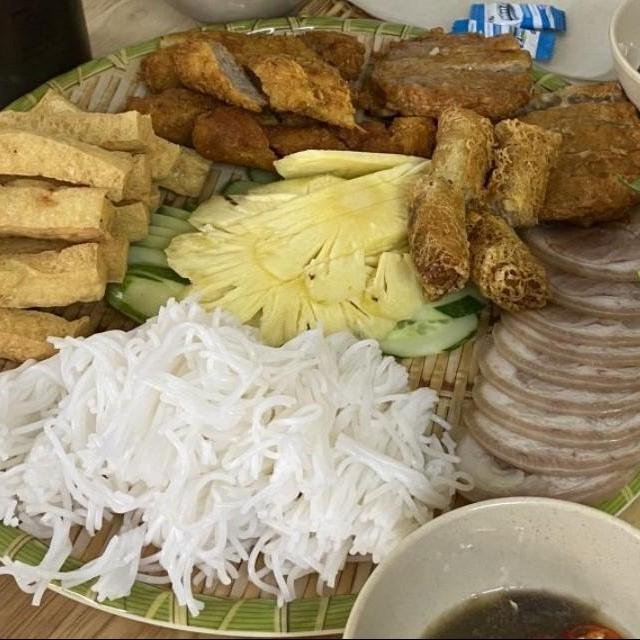bun: (0, 284, 476, 621)
cha com: (136, 27, 372, 136), (494, 76, 640, 232), (354, 22, 536, 128), (120, 86, 286, 174), (239, 104, 442, 168)
cha gio: (456, 196, 552, 316), (402, 168, 476, 304), (484, 116, 566, 234), (426, 104, 500, 214)
dau hu: (0, 145, 166, 249), (18, 85, 186, 186), (0, 120, 138, 204), (0, 223, 111, 312), (0, 172, 124, 248), (0, 100, 160, 158), (0, 221, 132, 286), (0, 285, 95, 365)
thit heo: (441, 213, 640, 514)
